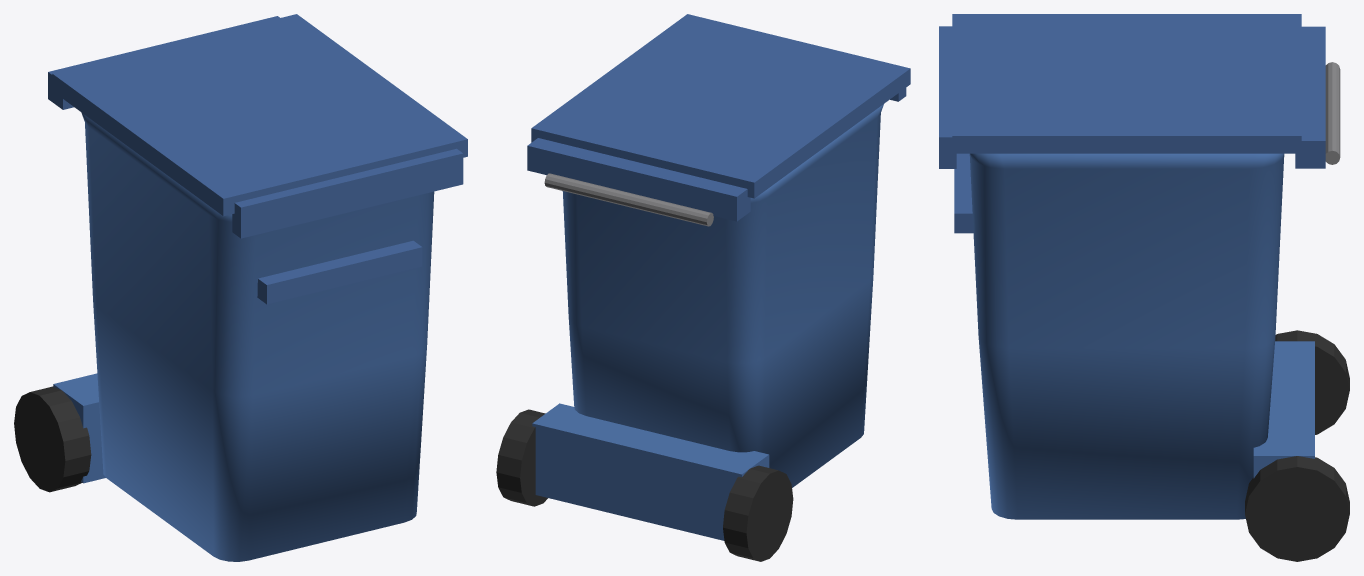
Rendered from yard_toter_b.glb.
3 renders of one model, left to right at view 1: azimuth 30°, elevation 25°; view 2: azimuth 150°, elevation 25°; view 3: azimuth 270°, elevation 25°, orthographic. The views are drawn at different scales.
Parts seen in each view (by area): view 1: toter_body, toter_lid, toter_lid_lip, toter_wheel-1, toter_bar, toter_wheelwell, toter_hinge; view 2: toter_body, toter_lid, toter_wheelwell, toter_hinge, toter_wheel-1, toter_wheel1, toter_handle; view 3: toter_body, toter_lid, toter_wheel1, toter_wheelwell, toter_hinge, toter_wheel-1, toter_lid_lip, toter_handle, toter_bar.
Boxes of the visible parts, bbox=[...] form: toter_body: bbox=[81, 112, 434, 561]; toter_lid: bbox=[52, 14, 467, 216]; toter_lid_lip: bbox=[232, 148, 463, 238]; toter_wheel-1: bbox=[14, 386, 91, 492]; toter_bar: bbox=[257, 240, 422, 304]; toter_wheelwell: bbox=[53, 373, 105, 483]; toter_hinge: bbox=[48, 16, 279, 109]; toter_body: bbox=[562, 104, 883, 487]; toter_lid: bbox=[531, 14, 910, 198]; toter_wheelwell: bbox=[532, 403, 769, 540]; toter_hinge: bbox=[527, 138, 750, 221]; toter_wheel-1: bbox=[723, 465, 793, 561]; toter_wheel1: bbox=[496, 409, 547, 506]; toter_handle: bbox=[544, 173, 713, 226]; toter_body: bbox=[969, 153, 1284, 519]; toter_lid: bbox=[952, 14, 1301, 153]; toter_wheel1: bbox=[1245, 456, 1349, 561]; toter_wheelwell: bbox=[1253, 341, 1314, 478]; toter_hinge: bbox=[1295, 26, 1325, 168]; toter_wheel-1: bbox=[1275, 330, 1349, 434]; toter_lid_lip: bbox=[939, 26, 956, 168]; toter_handle: bbox=[1325, 62, 1340, 164]; toter_bar: bbox=[954, 153, 973, 233].
Bounding box in the file's own units: 0.74 × 1.06 × 0.94.
